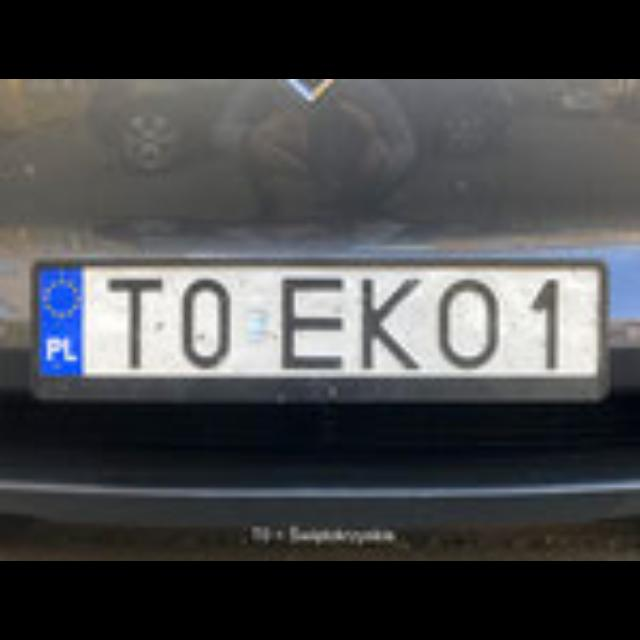pl_license_plate: (30, 258, 592, 374)
